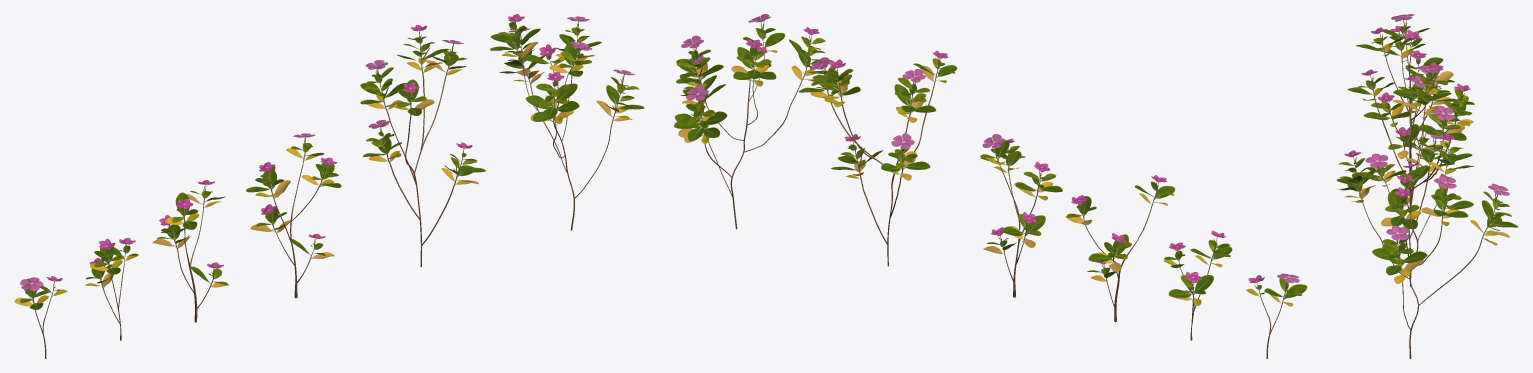
Rendered from periwinkle_plant.gltf.
3 views of the same model, side by side, from view 1: azimuth 30°, elevation 25°; view 2: azimuth 150°, elevation 25°; view 3: azimuth 270°, elevation 25° (orthographic). The views are drawn at different scales.
Visible parts, largest first — view 1: periwinkle_plant_01_LOD0, periwinkle_plant_02_LOD0, periwinkle_plant_03_LOD0, periwinkle_plant_04_LOD0, periwinkle_plant_05_LOD0, periwinkle_plant_06_LOD0; view 2: periwinkle_plant_01_LOD0, periwinkle_plant_02_LOD0, periwinkle_plant_03_LOD0, periwinkle_plant_04_LOD0, periwinkle_plant_05_LOD0, periwinkle_plant_06_LOD0; view 3: periwinkle_plant_01_LOD0, periwinkle_plant_02_LOD0, periwinkle_plant_03_LOD0, periwinkle_plant_04_LOD0, periwinkle_plant_05_LOD0, periwinkle_plant_06_LOD0.
Part boxes in pixels (x1,y1,x2,y2): periwinkle_plant_01_LOD0: (490, 14, 644, 230); periwinkle_plant_02_LOD0: (360, 25, 485, 267); periwinkle_plant_03_LOD0: (246, 133, 341, 298); periwinkle_plant_04_LOD0: (152, 180, 229, 322); periwinkle_plant_05_LOD0: (85, 238, 138, 340); periwinkle_plant_06_LOD0: (14, 276, 67, 358); periwinkle_plant_01_LOD0: (674, 14, 833, 229); periwinkle_plant_02_LOD0: (799, 50, 957, 266); periwinkle_plant_03_LOD0: (980, 134, 1062, 297); periwinkle_plant_04_LOD0: (1066, 175, 1175, 322); periwinkle_plant_05_LOD0: (1164, 230, 1232, 340); periwinkle_plant_06_LOD0: (1246, 273, 1307, 358); periwinkle_plant_01_LOD0: (1336, 133, 1518, 358); periwinkle_plant_02_LOD0: (1347, 65, 1474, 286); periwinkle_plant_03_LOD0: (1363, 75, 1441, 207); periwinkle_plant_04_LOD0: (1356, 27, 1455, 171); periwinkle_plant_05_LOD0: (1377, 25, 1454, 123); periwinkle_plant_06_LOD0: (1383, 14, 1429, 103).
Size of the model in its own units: 1.24 by 0.4107 by 0.3207.
Materials: 1 (1 with a texture image).
